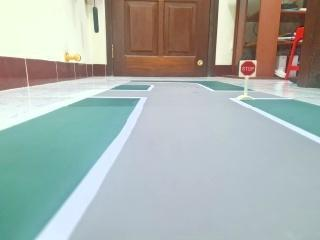stop: (239, 57, 258, 83)
